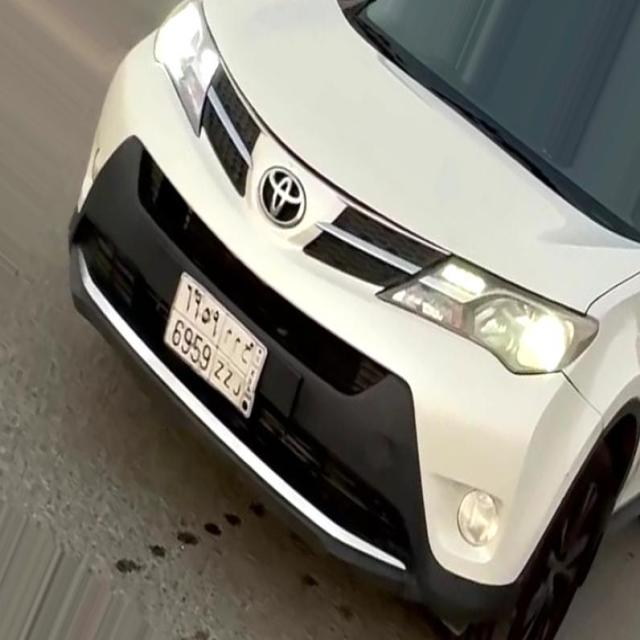Car-plate: (151, 242, 291, 439)
